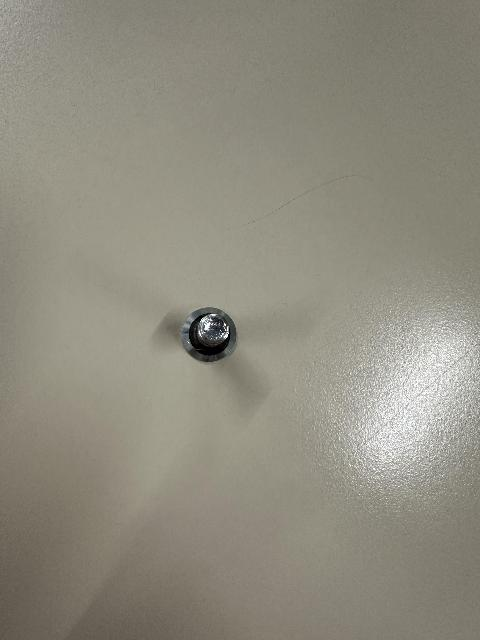Metal: (167, 310, 246, 367)
